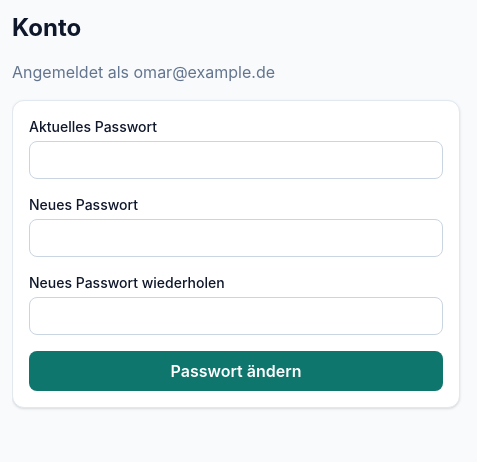
Test case: Konto › changes the password and keeps the user logged in with the new token
In the password field labelled "Aktuelles Passwort": {"x": 236, "y": 160} [29,141,443,179], type "altes-passwort-1"
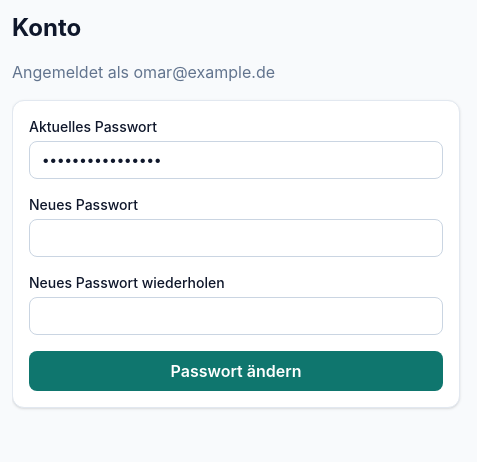
In the password field labelled "Neues Passwort": {"x": 236, "y": 238} [29,219,443,257], type "neues-passwort-12"
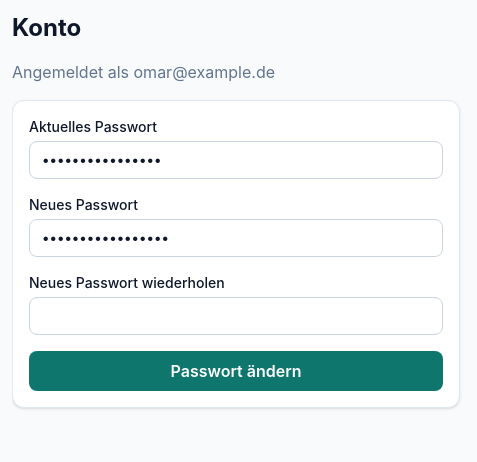
In the password field labelled "Neues Passwort wiederholen": {"x": 236, "y": 316} [29,297,443,335], type "neues-passwort-12"
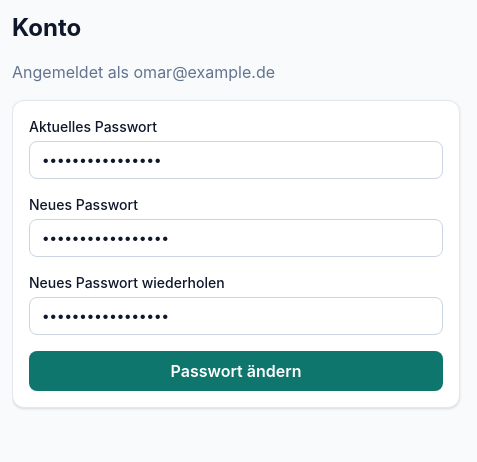
Click the button "Passwort ändern": {"x": 236, "y": 371} [29,351,443,391]
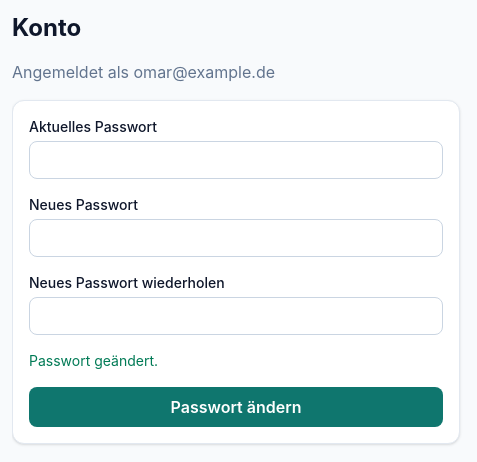
Expected: the text "Passwort geändert." is shown, [29,352,158,369]
